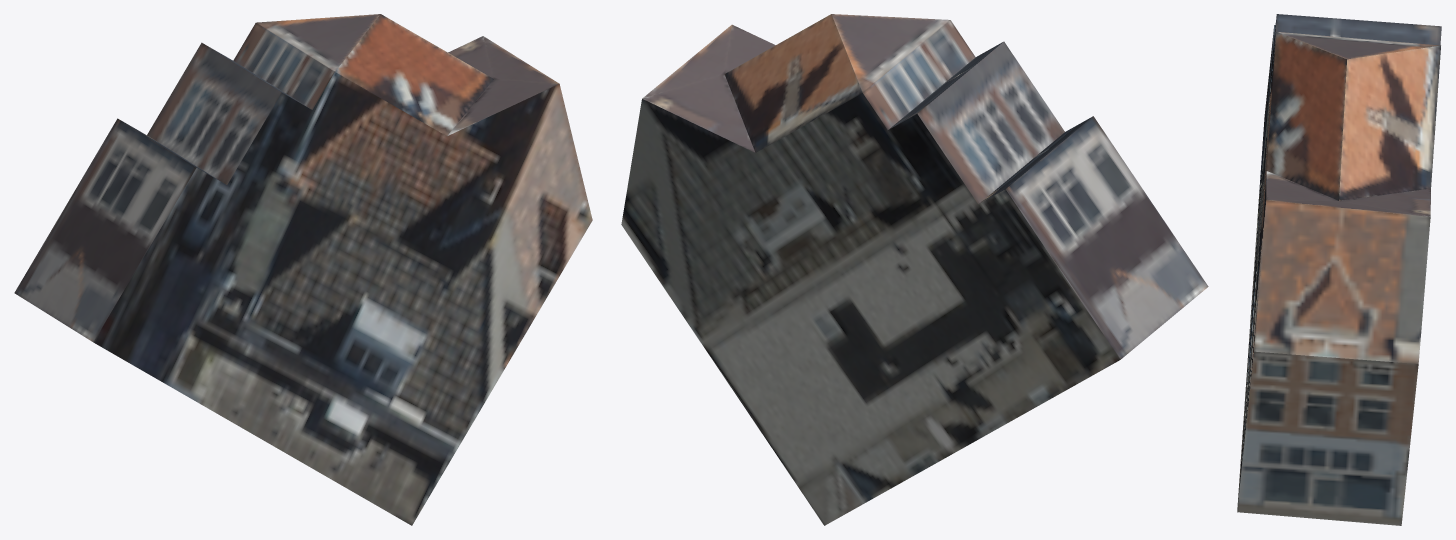
The picture shows the model from 3 angles, left to right: view 1: azimuth 30°, elevation 25°; view 2: azimuth 150°, elevation 25°; view 3: azimuth 270°, elevation 25°; orthographic projection. The views are drawn at different scales.
Parts seen in each view (by area): view 1: BAG_0599100000760369 (×4); view 2: BAG_0599100000760369 (×4); view 3: BAG_0599100000760369 (×3).
Boxes of the visible parts, <box> form: BAG_0599100000760369 (×4): <box>14,14,592,525</box>; BAG_0599100000760369 (×4): <box>621,14,1208,525</box>; BAG_0599100000760369 (×3): <box>1237,14,1441,525</box>.
Size of the model in its own units: 18.91 by 17.29 by 6.73.
1 material, 1 textured.
